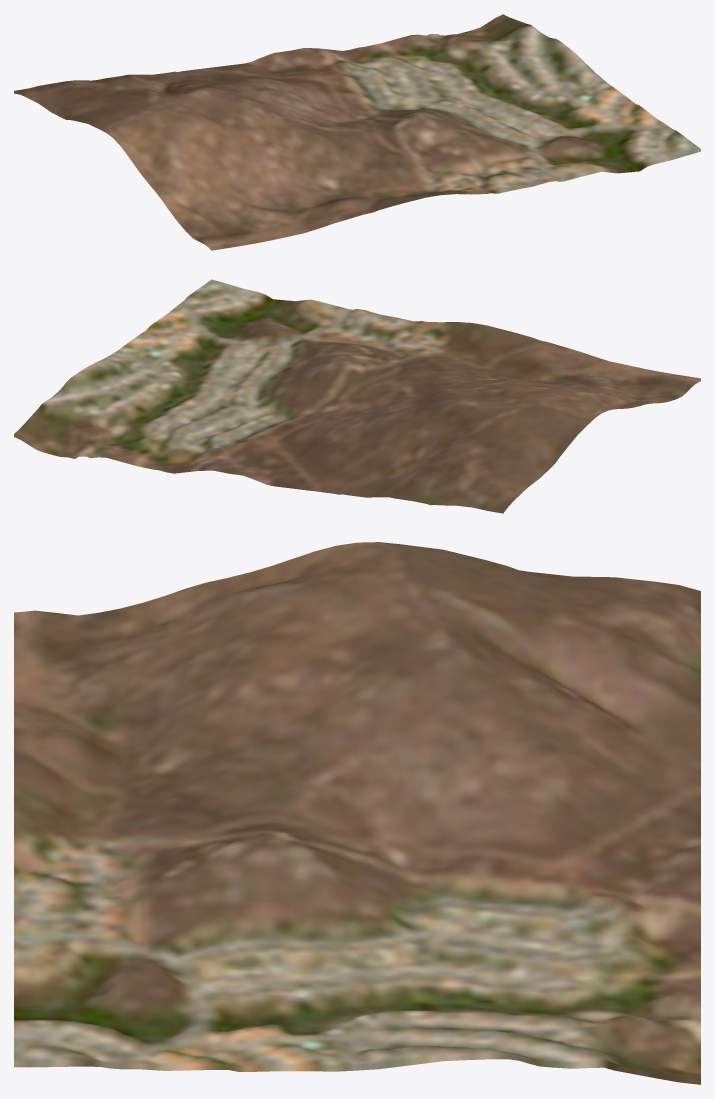
Rendered from terrain_r0_c6_lod1.glb.
The picture shows the model from 3 angles, top to bottom: view 1: azimuth 30°, elevation 25°; view 2: azimuth 150°, elevation 25°; view 3: azimuth 270°, elevation 25°; orthographic projection. The views are drawn at different scales.
Parts seen in each view (by area): view 1: terrain_r0_c6_lod1; view 2: terrain_r0_c6_lod1; view 3: terrain_r0_c6_lod1.
Part boxes in pixels (x1,y1,x2,y2): terrain_r0_c6_lod1: [14, 14, 700, 250]; terrain_r0_c6_lod1: [14, 279, 700, 513]; terrain_r0_c6_lod1: [14, 542, 700, 1084].
Size of the model in its own units: 1125 by 189 by 787.
1 material, 1 textured.
